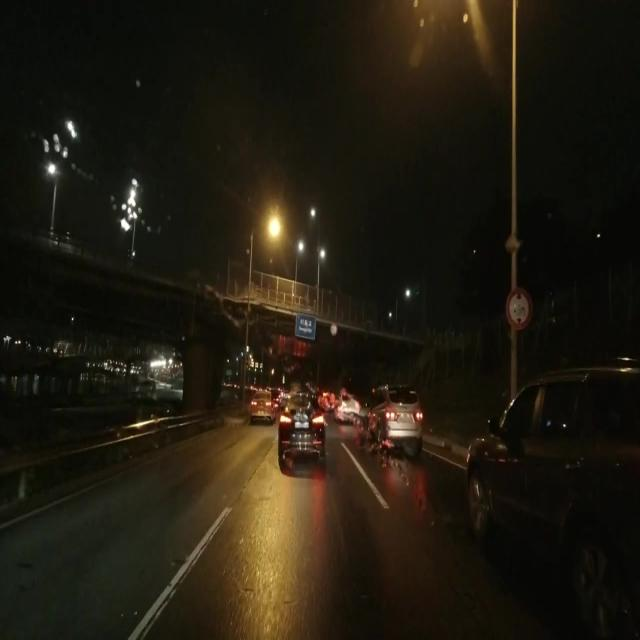Car: (468, 362, 631, 639), (356, 388, 421, 456), (276, 397, 323, 465), (249, 392, 275, 423)
